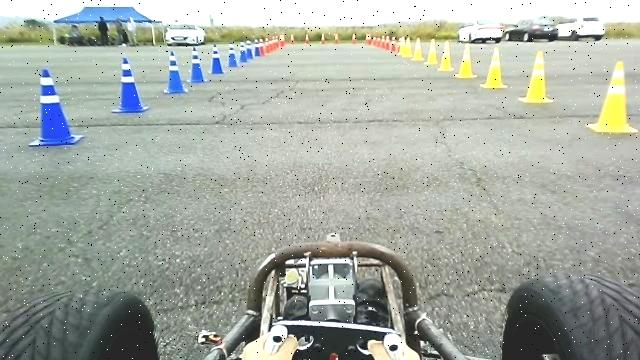blue cone: (27, 67, 85, 146), (110, 56, 149, 113), (162, 50, 188, 94), (186, 46, 208, 82), (208, 44, 225, 74)
yellow cone: (584, 61, 637, 135), (519, 50, 555, 102), (480, 45, 508, 86), (453, 43, 477, 78), (437, 40, 454, 71), (423, 38, 438, 64)
